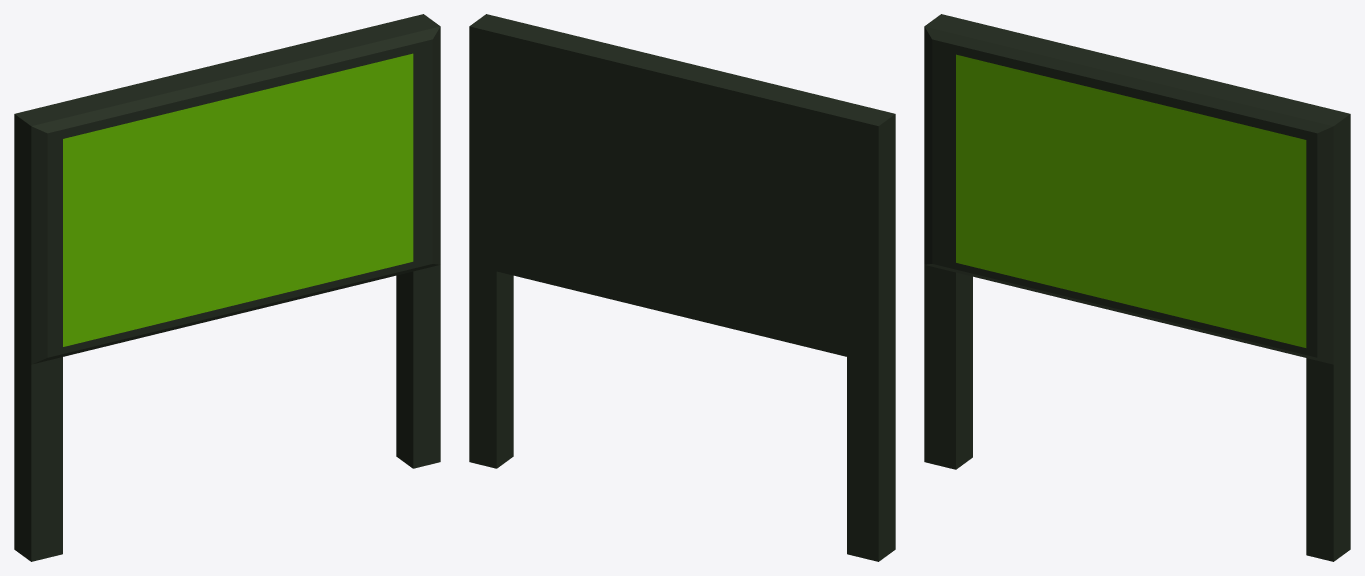
The model's file is Poster1.fbx.
The picture shows the model from 3 angles, left to right: view 1: azimuth 30°, elevation 25°; view 2: azimuth 150°, elevation 25°; view 3: azimuth 330°, elevation 25°; orthographic projection.
Parts seen in each view (by area): view 1: Poster3; view 2: Poster3; view 3: Poster3.
Part boxes in pixels (box(x1,y1,x2,y2)): Poster3: box(14, 14, 440, 561); Poster3: box(469, 14, 895, 561); Poster3: box(924, 14, 1350, 561).
Size of the model in its own units: 116 by 118 by 10.39.
